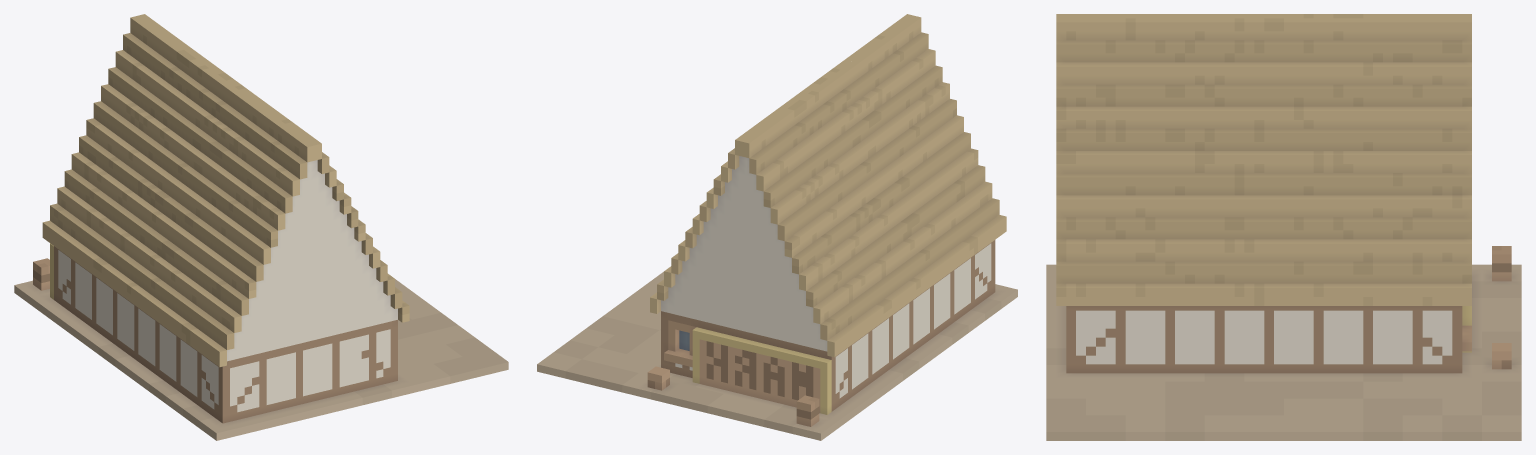
File: market_small.l3.glb
3 views of the same model, side by side, from view 1: azimuth 30°, elevation 25°; view 2: azimuth 150°, elevation 25°; view 3: azimuth 270°, elevation 25° (orthographic). The views are drawn at different scales.
Visible parts, largest first — view 1: market_small; view 2: market_small; view 3: market_small.
Boxes of the visible parts, x1,y1,x2,y2 form: market_small: (14, 14, 508, 440); market_small: (537, 14, 1017, 440); market_small: (1046, 14, 1521, 440).
Bounding box in the file's own units: 5 × 4.38 × 6.
